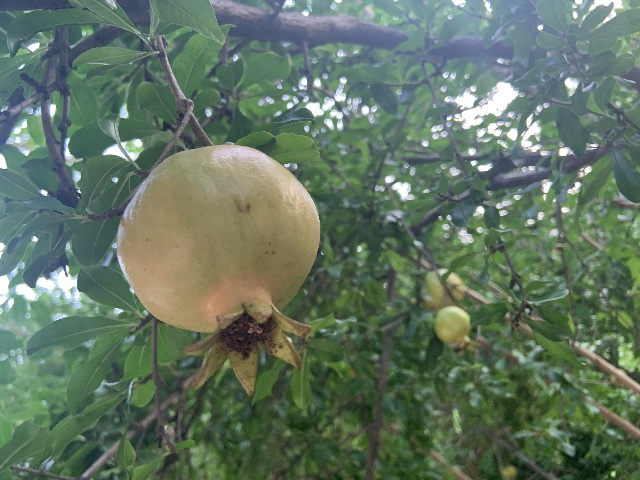mid-growth: (116, 143, 320, 397), (434, 305, 480, 355), (421, 268, 464, 308)
